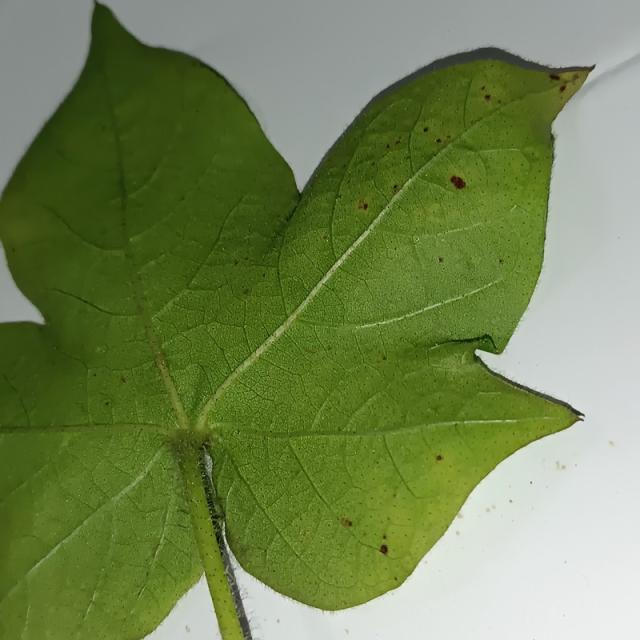Bacterial_Blight: (447, 164, 469, 194), (153, 352, 169, 373), (151, 539, 162, 557), (358, 200, 369, 211), (202, 437, 212, 447), (379, 544, 388, 555), (341, 518, 352, 527), (549, 74, 560, 81), (559, 85, 566, 93), (572, 73, 579, 81), (484, 94, 491, 101), (392, 184, 398, 192), (436, 455, 443, 461), (120, 376, 126, 383), (243, 288, 249, 295), (321, 234, 327, 241), (423, 127, 429, 133), (438, 257, 444, 263), (381, 355, 387, 361), (499, 258, 504, 265), (234, 259, 239, 266), (436, 138, 442, 143), (382, 534, 387, 540), (386, 143, 391, 149), (480, 86, 485, 91), (105, 401, 110, 406), (446, 134, 451, 139), (394, 577, 398, 582), (11, 247, 15, 252)
Cotton: (0, 8, 591, 639)
